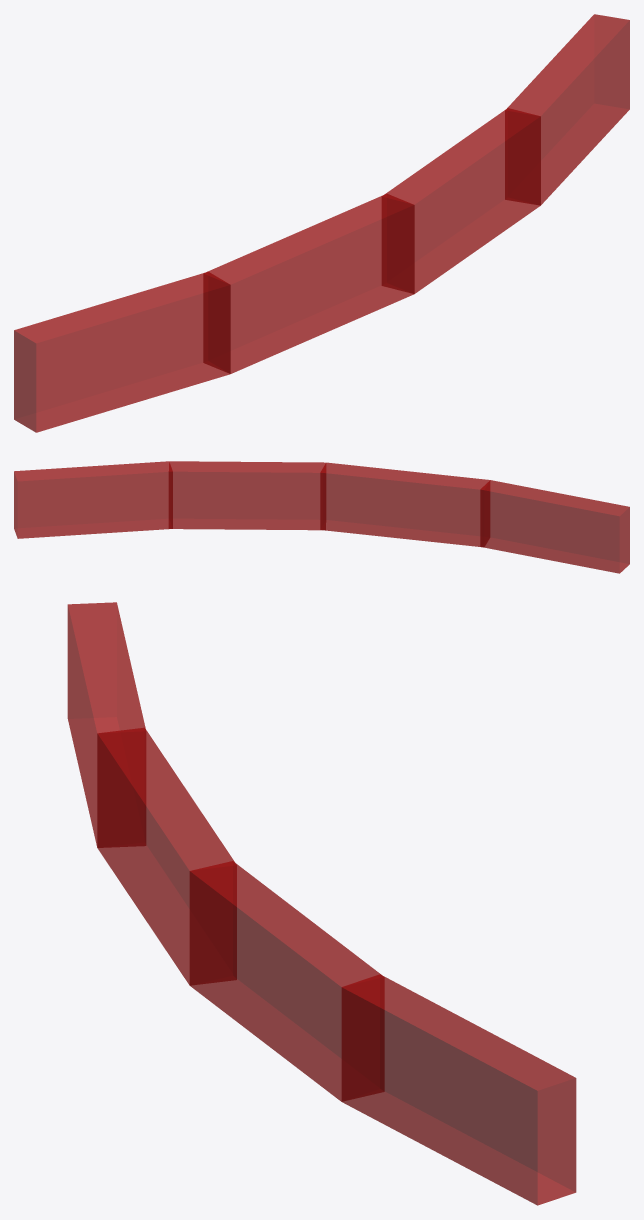
Rendered from SM_Prop_Barrier_Rail_Bend_03_Collision.fbx.
3 renders of one model, top to bottom at view 1: azimuth 30°, elevation 25°; view 2: azimuth 150°, elevation 25°; view 3: azimuth 270°, elevation 25°, orthographic. The views are drawn at different scales.
Visible parts, largest first — view 1: SM_Prop_Barrier_Rail_Bend_03_Collision; view 2: SM_Prop_Barrier_Rail_Bend_03_Collision; view 3: SM_Prop_Barrier_Rail_Bend_03_Collision.
Boxes of the visible parts, left/top/right/bottom form: SM_Prop_Barrier_Rail_Bend_03_Collision: left=14, top=14, right=629, bottom=432; SM_Prop_Barrier_Rail_Bend_03_Collision: left=14, top=461, right=629, bottom=573; SM_Prop_Barrier_Rail_Bend_03_Collision: left=67, top=602, right=576, bottom=1205.
Bounding box in the file's own units: 999 × 109 × 439.
